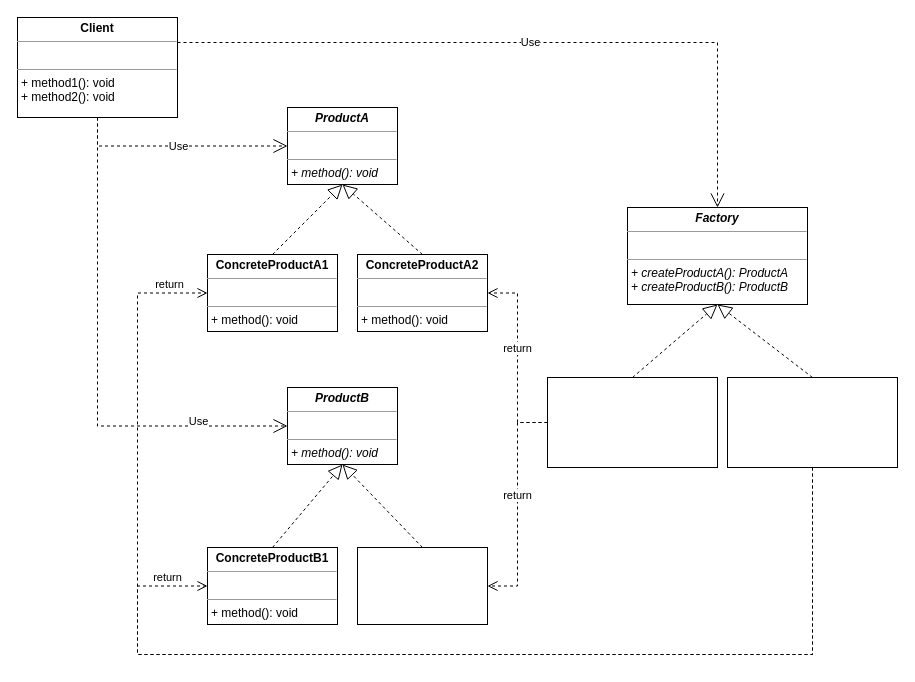
This 915x682 diagram has some shape labels left out. The shapes that lost their labels are listed below. From the top down, each one's centre as x and y in pixels, then its label:
At pixel 632 422: "ConcreteFactory2 + createProductA(): ProductA + createProductB(): ProductB".
At pixel 812 422: "ConcreteFactory1 + createProductA(): ProductA + createProductB(): ProductB".
At pixel 422 585: "ConcreteProductB2 + method(): void".
